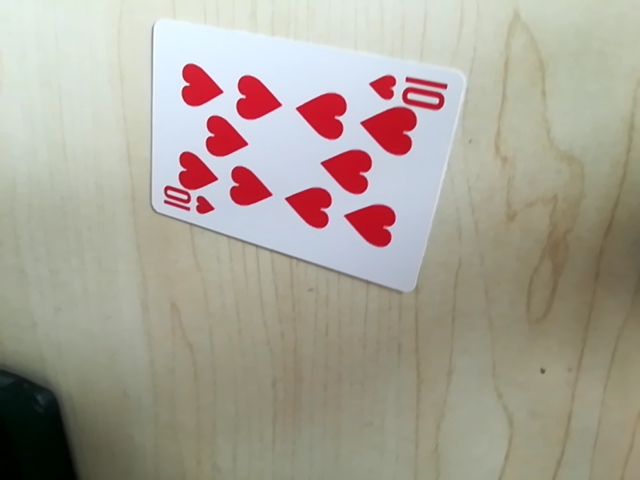hx 10: (369, 67, 453, 106), (157, 188, 216, 221)
